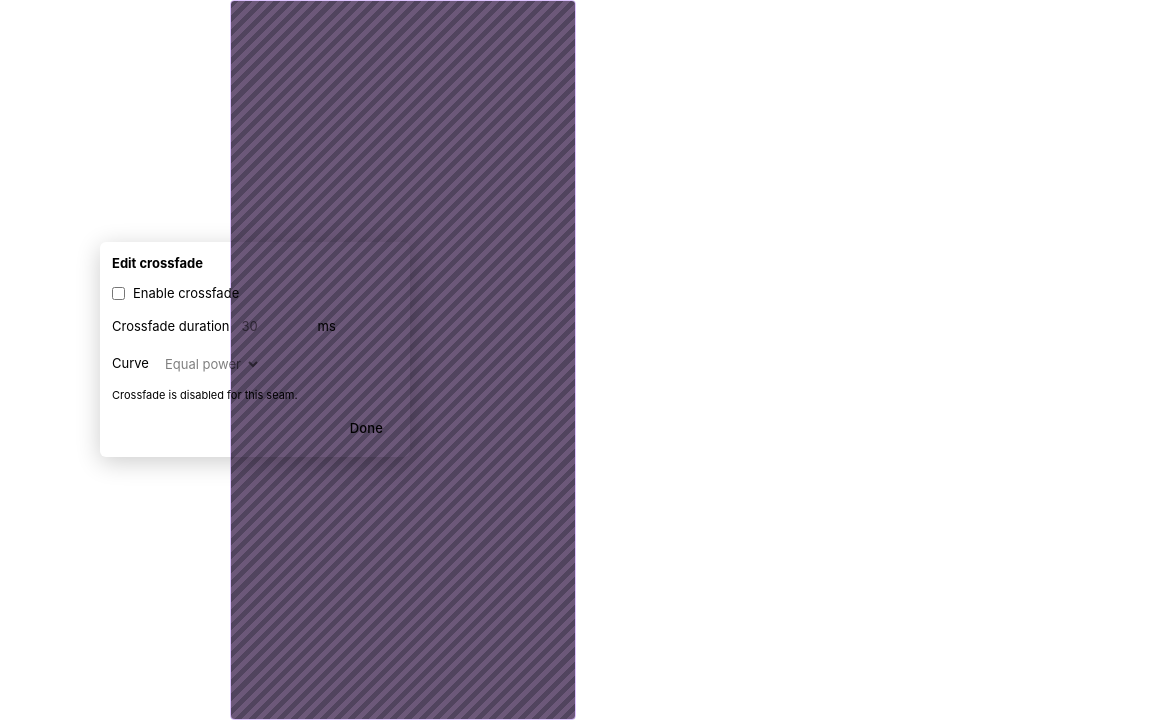
Test: keeps local input shortcuts away from the timeline and closes on outside click
This screenshot has width=1152, height=720.
Press Delete in the checkbox, box [112,287,125,300]
Press the mouse on the element that starts with "Edit crossfade": [576, 360] box [0,0,1151,719]
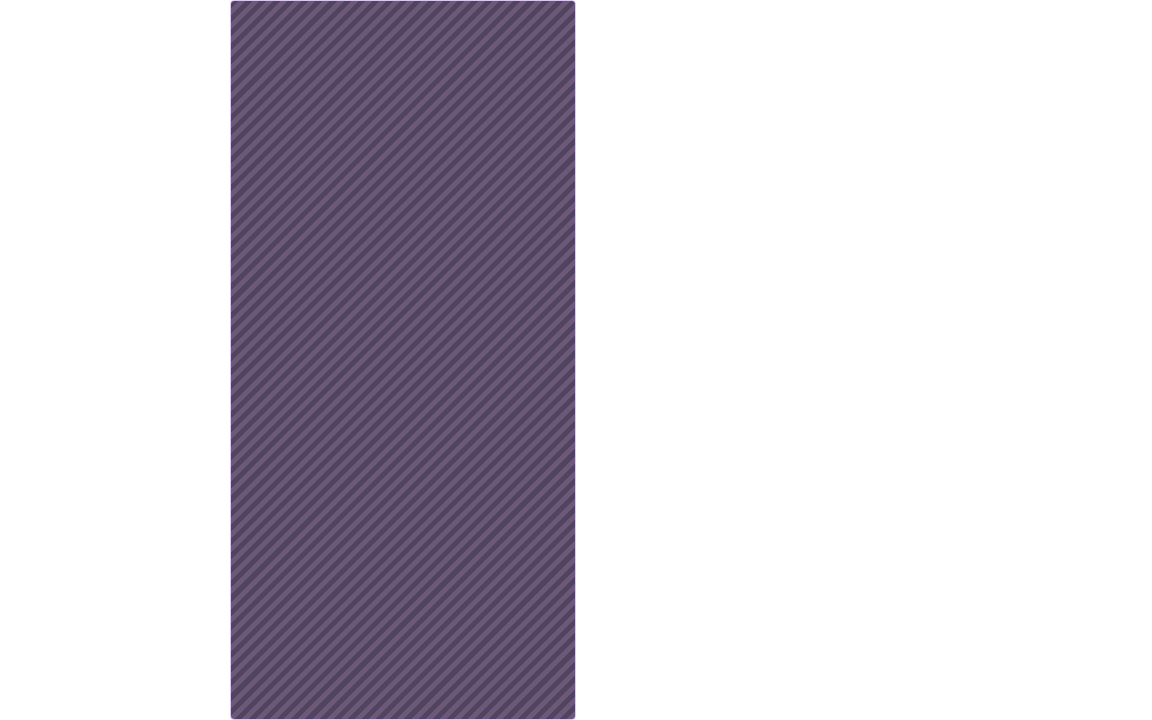
Expected: the dialog is gone
